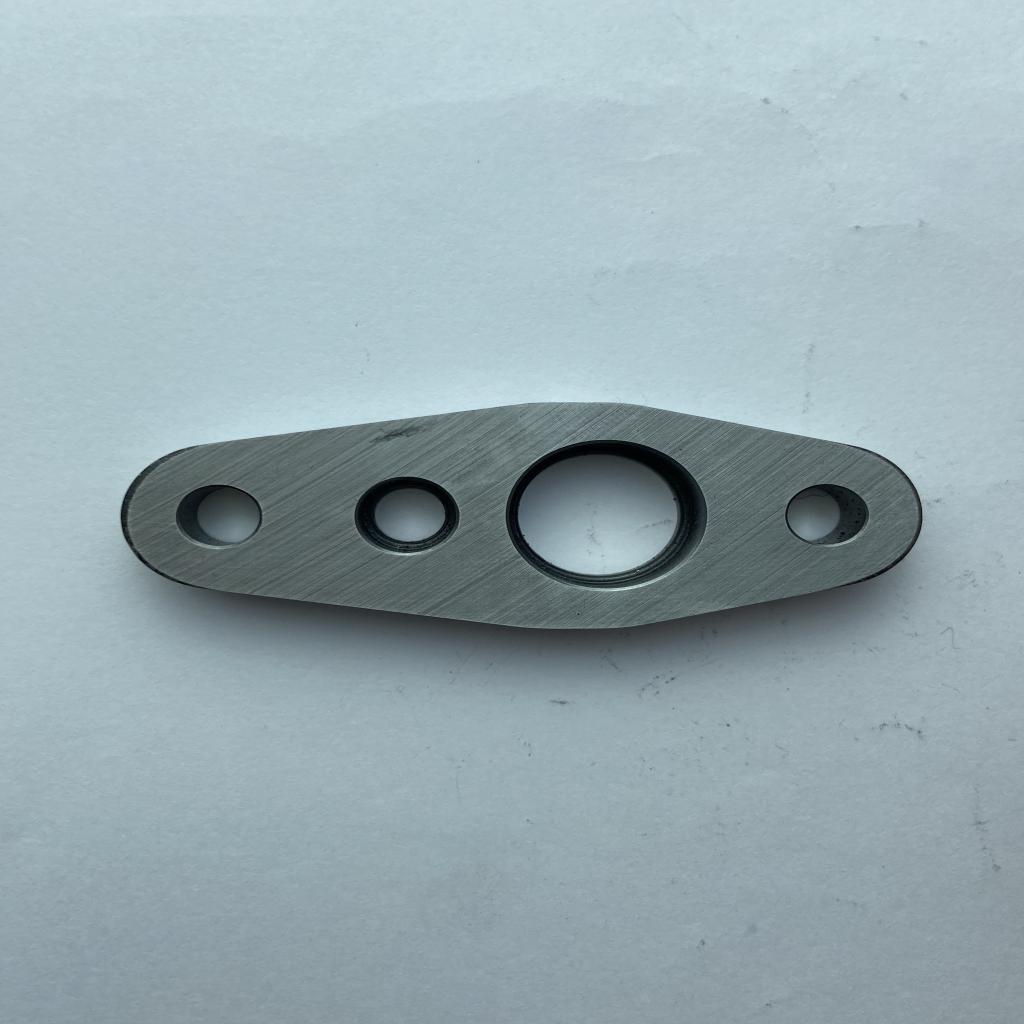chap: (574, 610, 584, 617)
lines: (368, 423, 436, 442)
